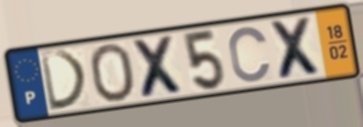5: (179, 26, 229, 93)
C: (227, 24, 274, 85)
D: (37, 48, 91, 114)
O: (87, 41, 138, 104)
X: (266, 14, 327, 82), (129, 33, 189, 101)
